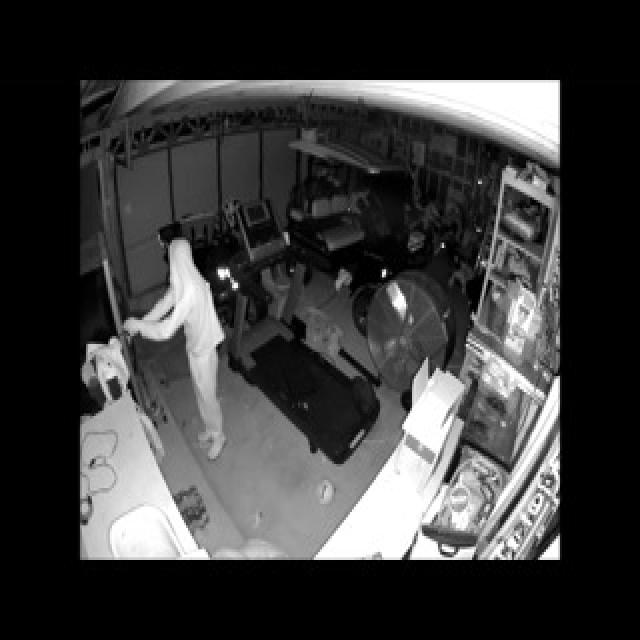thief: (155, 244, 232, 466)
